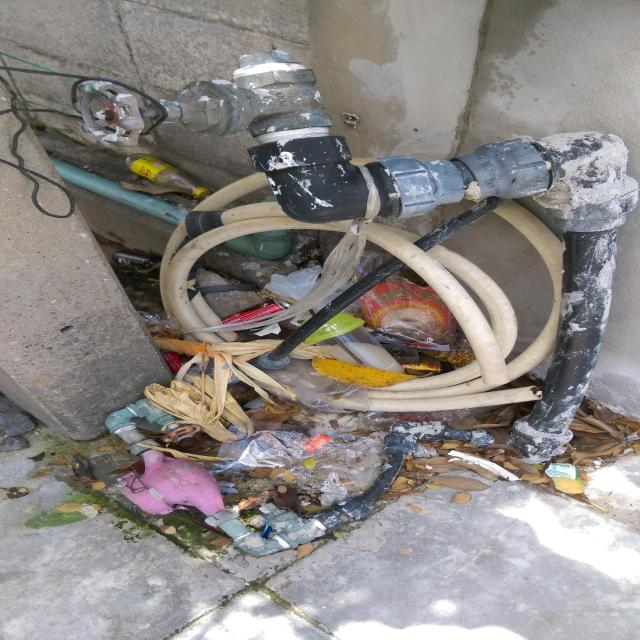litter: (207, 358, 386, 496), (139, 337, 334, 461), (266, 240, 467, 351), (302, 309, 405, 374), (122, 153, 210, 199), (446, 451, 581, 479), (221, 297, 298, 334), (136, 310, 186, 339), (112, 249, 162, 269)
